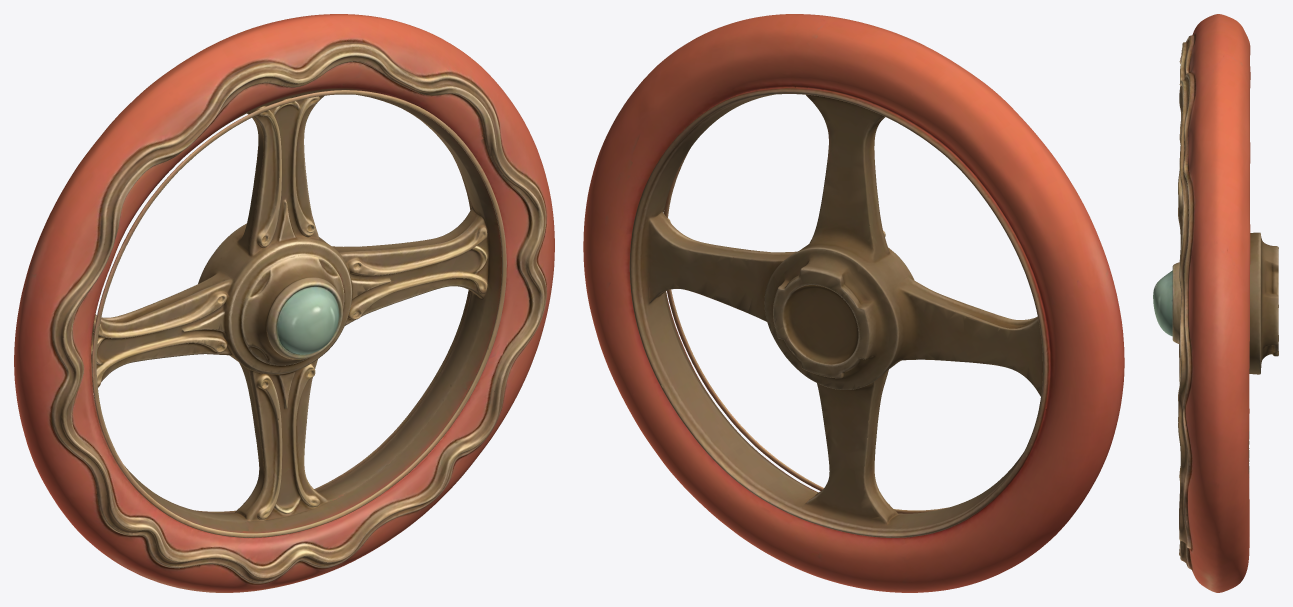
File: act1_valve_wheel_rodin.glb
The picture shows the model from 3 angles, left to right: view 1: azimuth 30°, elevation 25°; view 2: azimuth 150°, elevation 25°; view 3: azimuth 270°, elevation 25°; orthographic projection. The views are drawn at different scales.
Visible parts, largest first — view 1: SM_Act1_ValveWheelRodin; view 2: SM_Act1_ValveWheelRodin; view 3: SM_Act1_ValveWheelRodin.
Part boxes in pixels (<box>): SM_Act1_ValveWheelRodin: <box>14,14,554,592</box>; SM_Act1_ValveWheelRodin: <box>583,14,1124,592</box>; SM_Act1_ValveWheelRodin: <box>1153,14,1278,592</box>.
Size of the model in its own units: 0.5178 by 0.52 by 0.1132.
1 material, 1 textured.
